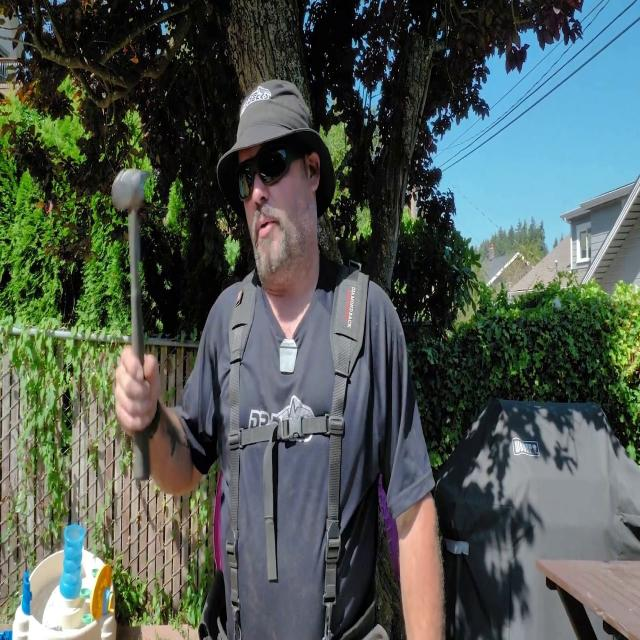hammer: (112, 167, 151, 481)
